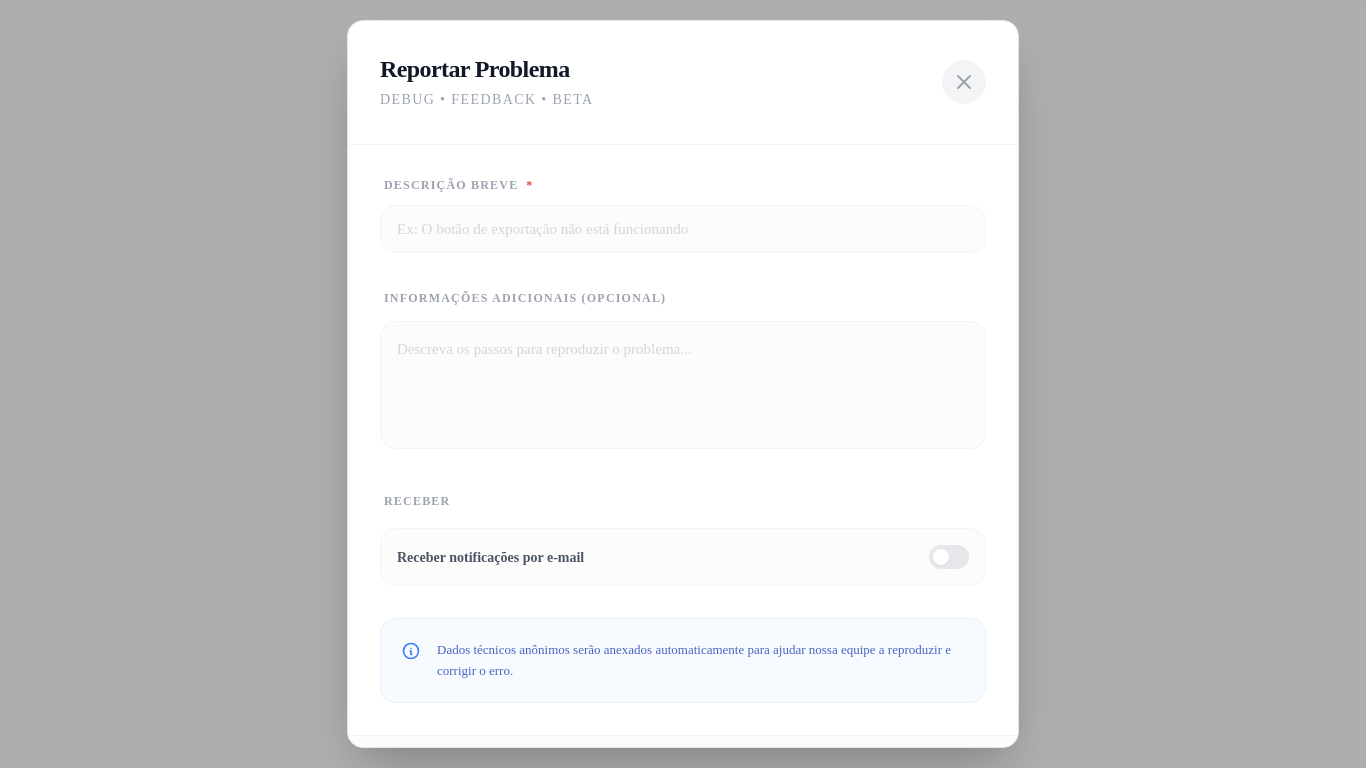
Test: BugReportDialog › exibe erro quando e-mail inválido é fornecido
Type "Descrição com mais de dez caracteres" into the field labelled "Descrição breve *" at (683, 229), box [380,205,986,253]
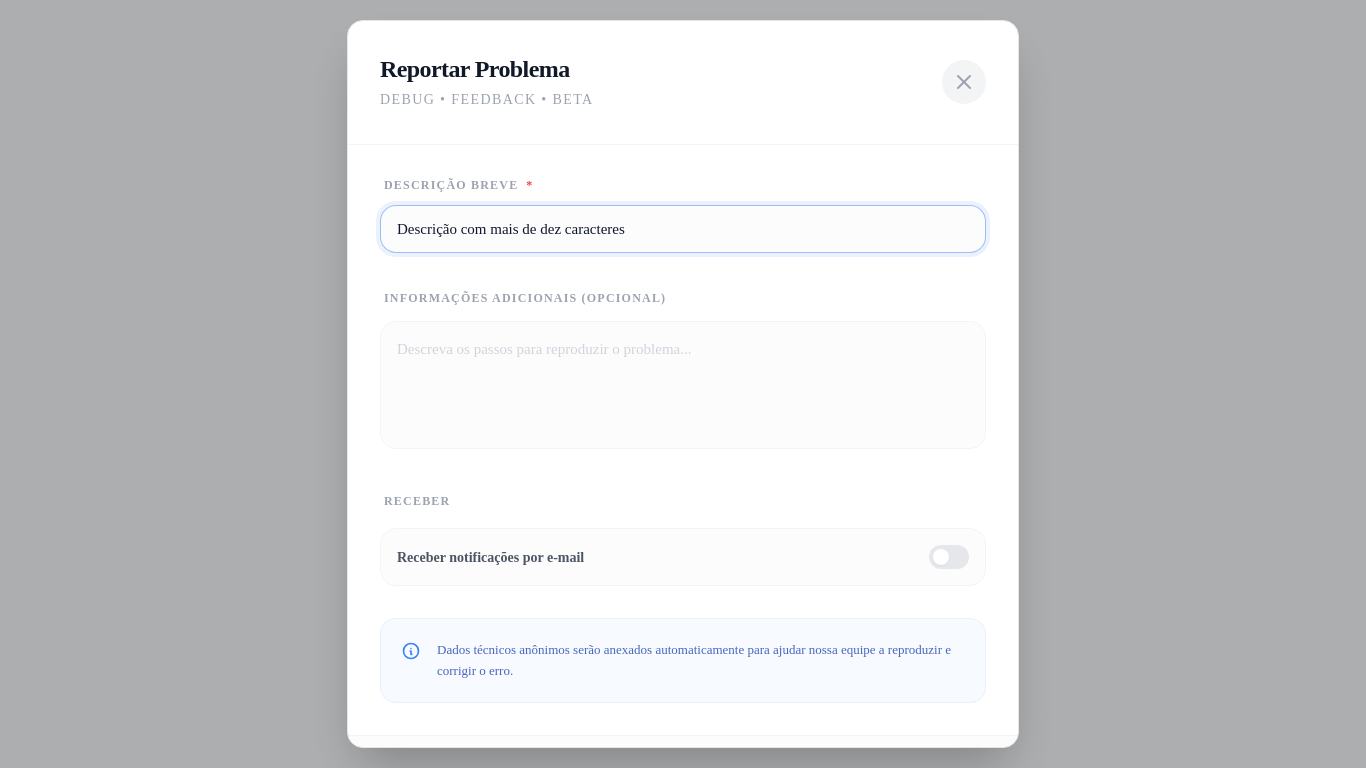
Click the checkbox at (491, 557), box [380,528,986,586]
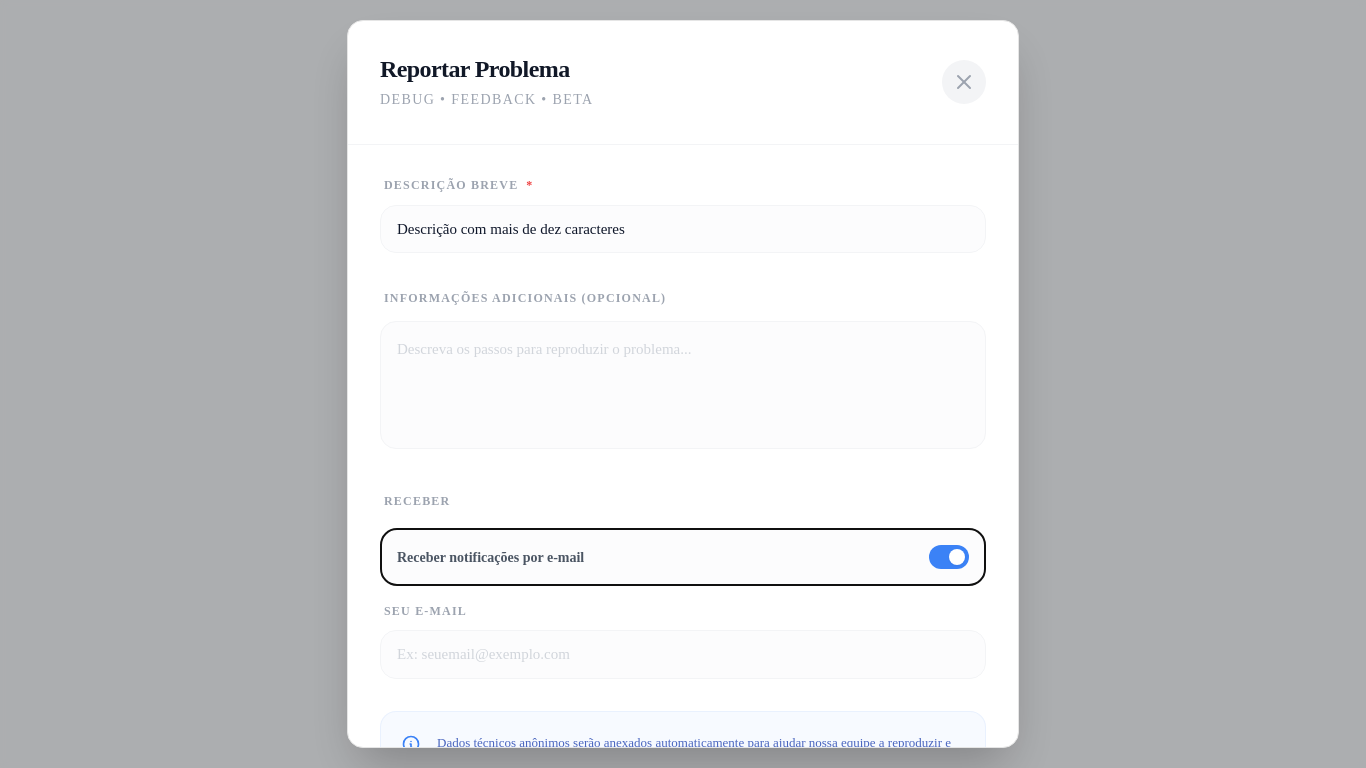
Type "email-invalido" into the field labelled "Seu e-mail" at (683, 655), box [380,630,986,679]
(page scrolled)
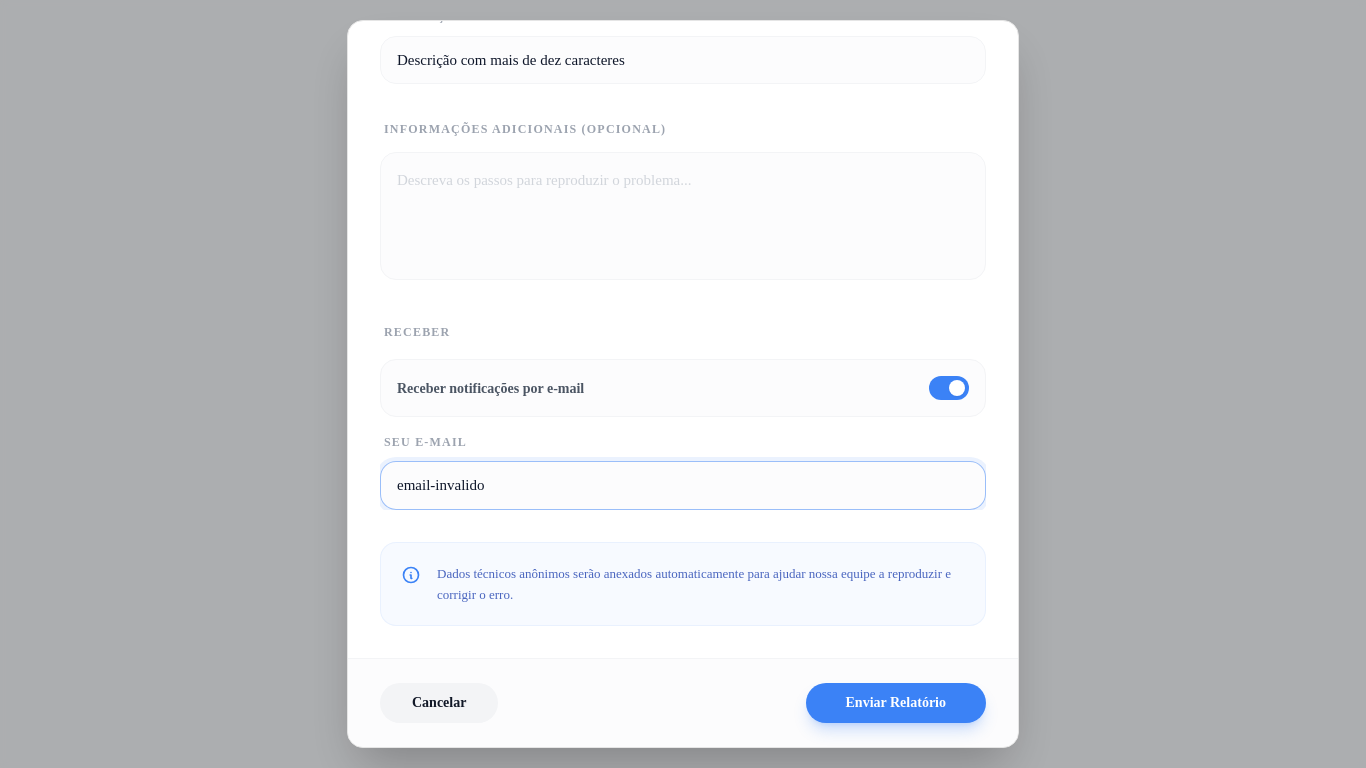
Click the button "Enviar Relatório" at (896, 703), box [806,683,986,723]
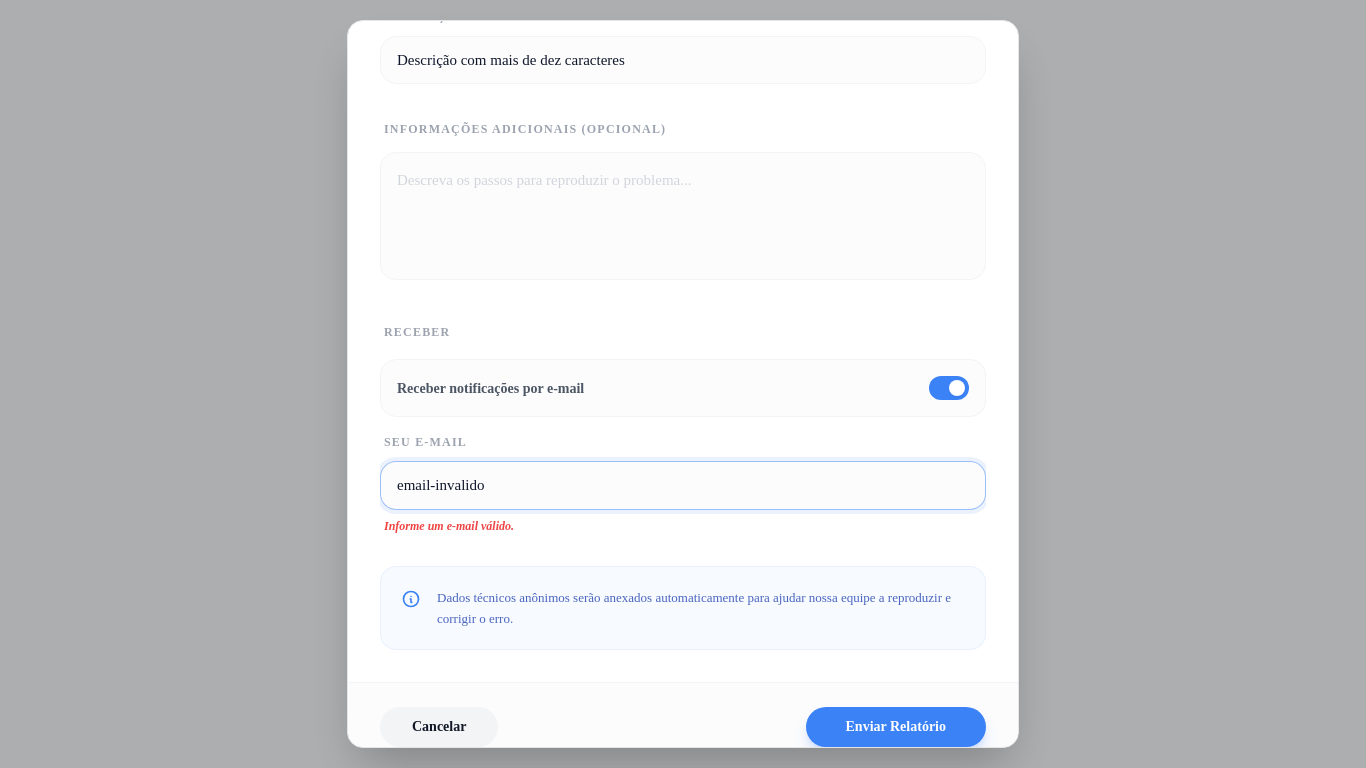
Expected: the text "Informe um e-mail válido." is shown, [384,519,514,533]
